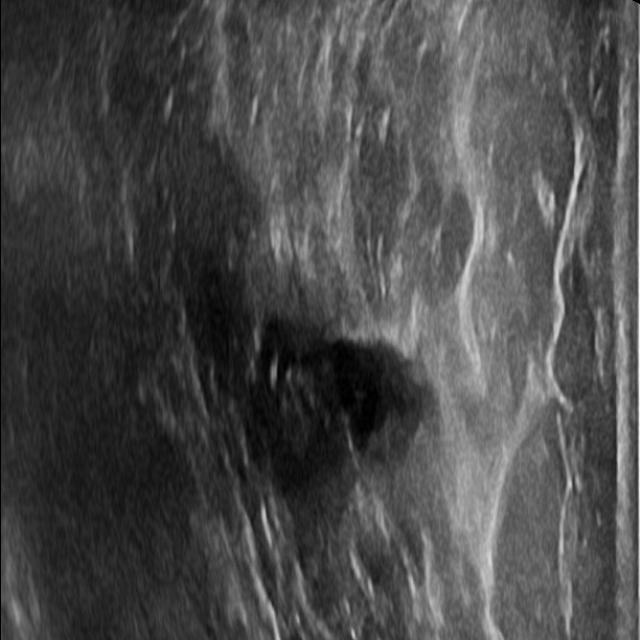Malignant: (236, 318, 434, 526)
